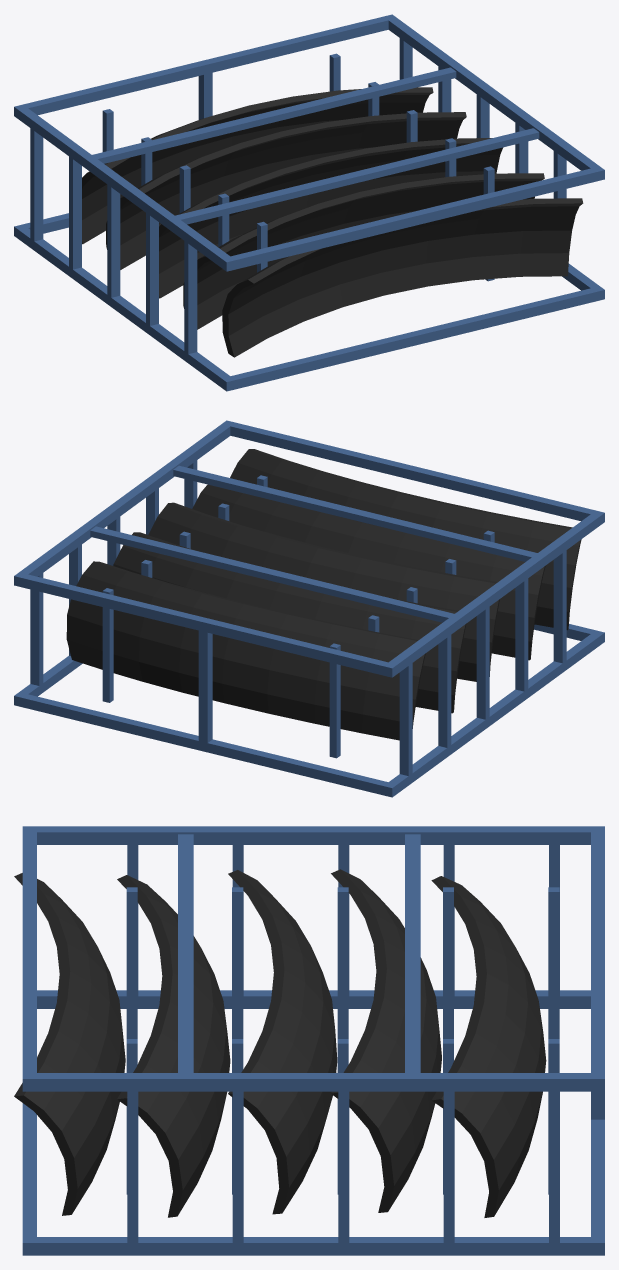
Rendered from bumper_rack.glb.
3 renders of one model, top to bottom at view 1: azimuth 30°, elevation 25°; view 2: azimuth 150°, elevation 25°; view 3: azimuth 270°, elevation 25°, orthographic. The views are drawn at different scales.
Visible parts, largest first — view 1: bumpers, rack_frame; view 2: bumpers, rack_frame; view 3: bumpers, rack_frame.
Part boxes in pixels (x1,y1,x2,y2): bumpers: [82, 87, 583, 357]; rack_frame: [14, 14, 604, 391]; bumpers: [66, 449, 581, 740]; rack_frame: [14, 420, 604, 797]; bumpers: [14, 869, 546, 1217]; rack_frame: [22, 826, 604, 1255].
Size of the model in its own units: 1.9 by 0.62 by 1.88.
